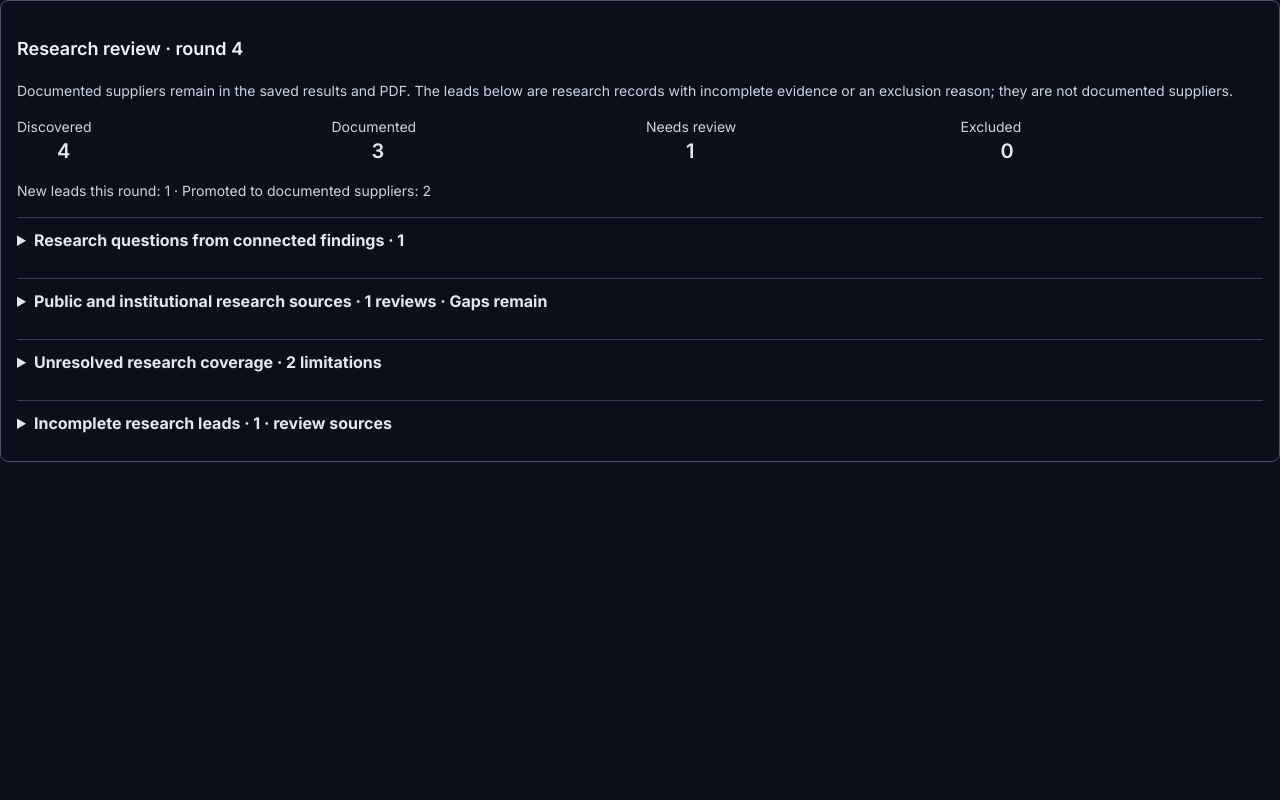
Test: MB-UX-SIMPLIFY-001 L01 keeps evidence and research hypotheses available behind closed disclosures
Check: the text "Does the registry distinguish these legal entities?" is not shown
Check: the heading "Unresolved research coverage · 2 limitations" is shown, box [34, 352, 382, 372]
Click the heading "Research questions from connected findings · 1".
click(219, 240)  # box [34, 230, 404, 250]
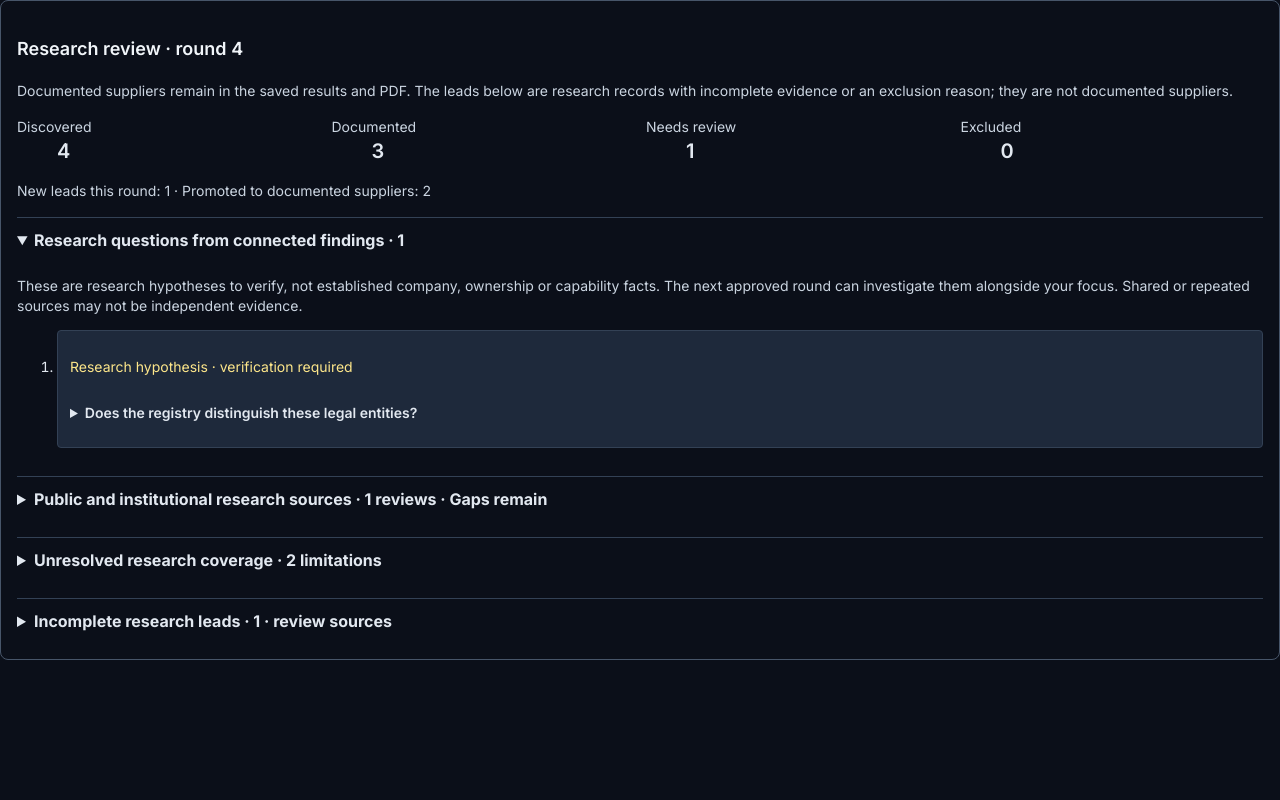
Check: the text "Two supplier mentions use the same directory entry." is not shown
Check: the heading "Does the registry distinguish these legal entities?" is shown
Click the heading "Does the registry distinguish these legal entities?".
click(251, 412)  # box [85, 404, 417, 421]
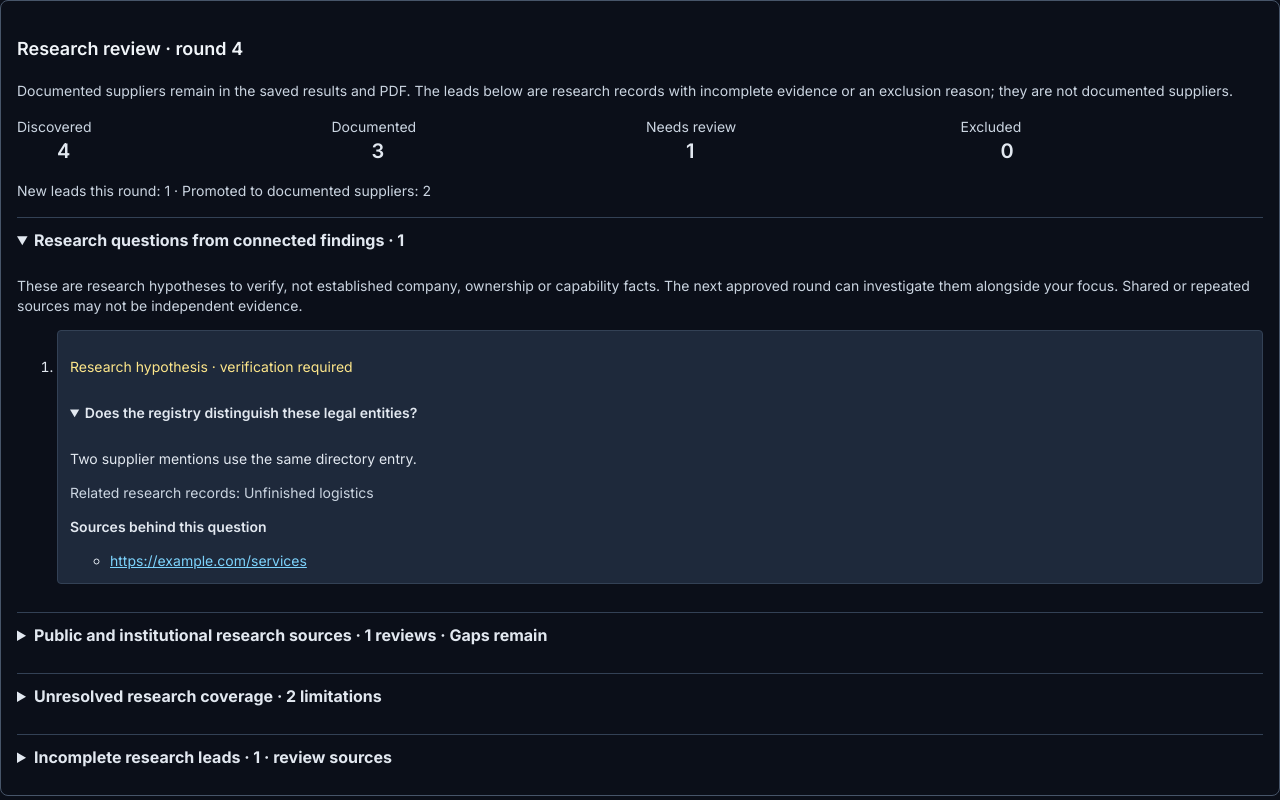
Check: the text "Two supplier mentions use the same directory entry." is shown, box [70, 450, 417, 467]
